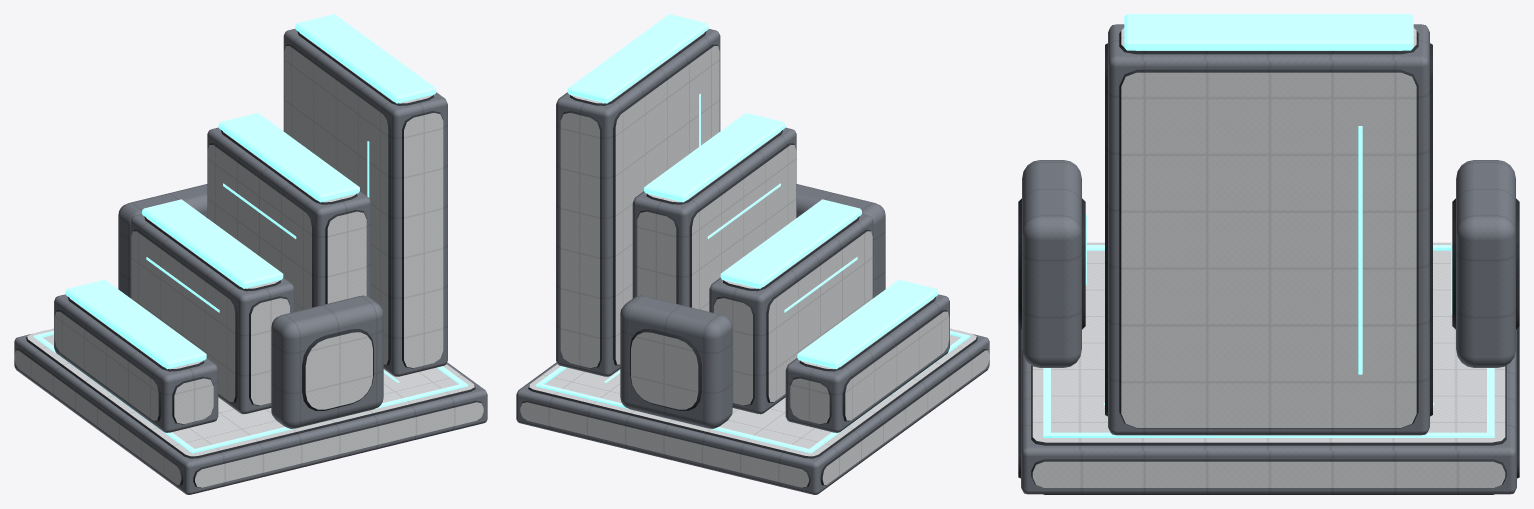
Rendered from R4X_ModuleAmplifier.glb.
3 views of the same model, side by side, from view 1: azimuth 30°, elevation 25°; view 2: azimuth 150°, elevation 25°; view 3: azimuth 270°, elevation 25° (orthographic). The views are drawn at different scales.
Visible parts, largest first — view 1: R4X_ModuleAmplifier_Body; view 2: R4X_ModuleAmplifier_Body; view 3: R4X_ModuleAmplifier_Body.
Part boxes in pixels (x1,y1,x2,y2): R4X_ModuleAmplifier_Body: [14, 14, 487, 494]; R4X_ModuleAmplifier_Body: [516, 14, 989, 494]; R4X_ModuleAmplifier_Body: [1018, 14, 1519, 494].
Bounding box in the file's own units: 0.52 × 0.512 × 0.52.
4 materials, 3 textured.
